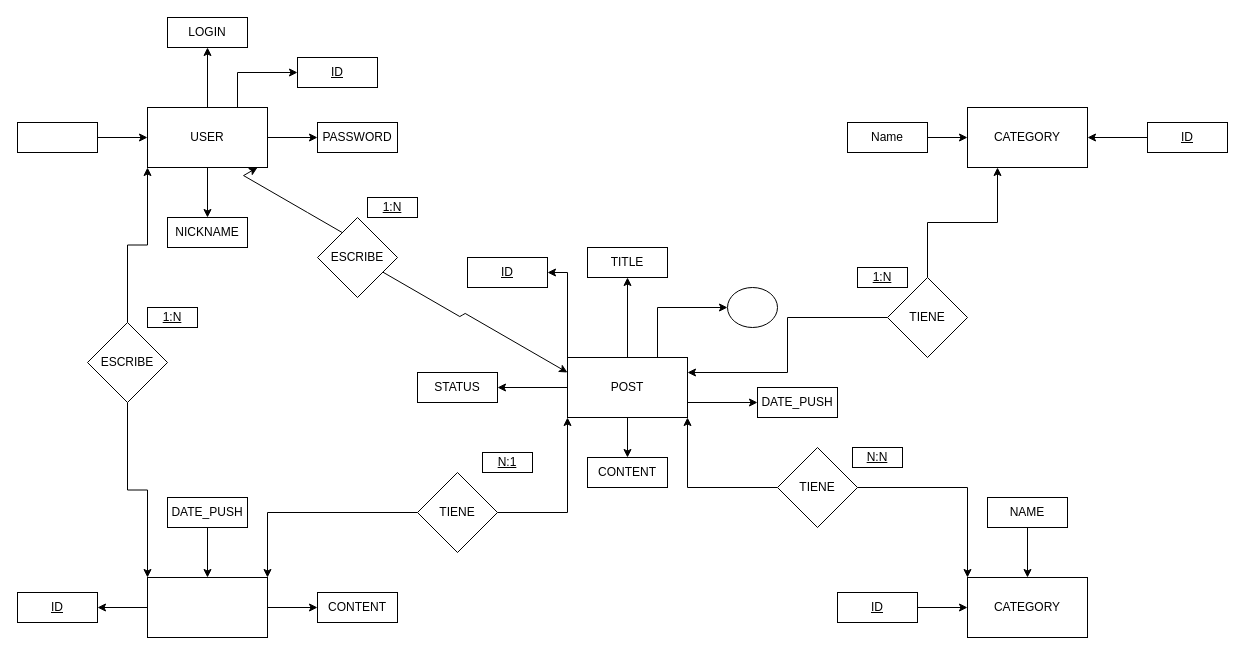
This 1245x655 diagram has some shape labels left out. The centre of each missing label's shape, as x and y in pixels:
COMENTS: pixel 207 607
EMAIL: pixel 57 137
TAGS: pixel 752 307
